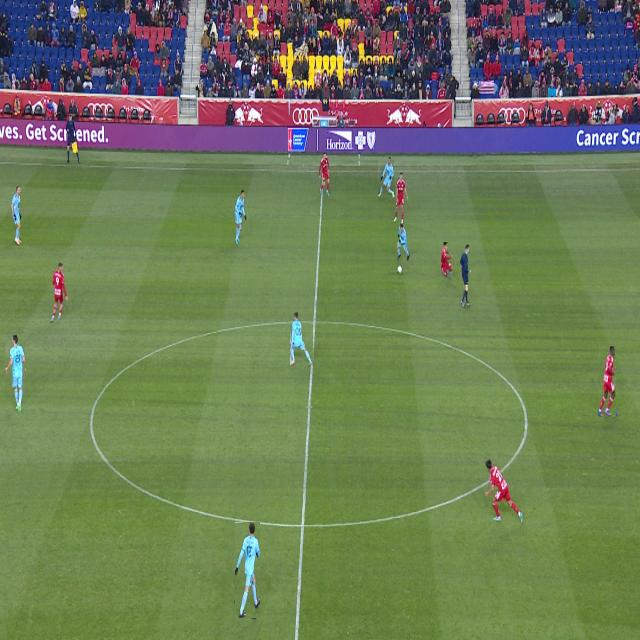football: (397, 265, 402, 274)
player: (485, 460, 524, 524), (235, 522, 260, 618), (6, 335, 25, 414), (290, 313, 313, 365), (599, 347, 616, 417), (51, 263, 68, 321), (393, 173, 409, 223), (11, 186, 22, 245), (379, 157, 394, 198), (235, 190, 246, 244), (397, 224, 410, 261), (319, 153, 330, 196), (441, 243, 453, 277)
referee: (460, 245, 471, 308)
